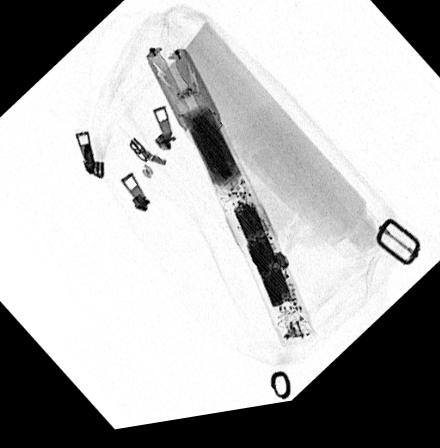Baton: (144, 49, 319, 358)
